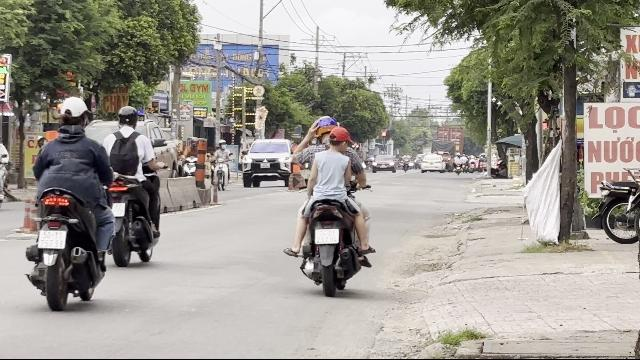helmet: (57, 96, 91, 132), (314, 116, 338, 140), (116, 104, 138, 128)
licenseplate: (38, 231, 66, 249), (315, 229, 339, 244)
motorcyclist: (18, 94, 114, 308), (286, 116, 376, 296), (102, 103, 162, 265)
nohelmet: (327, 127, 349, 152)
